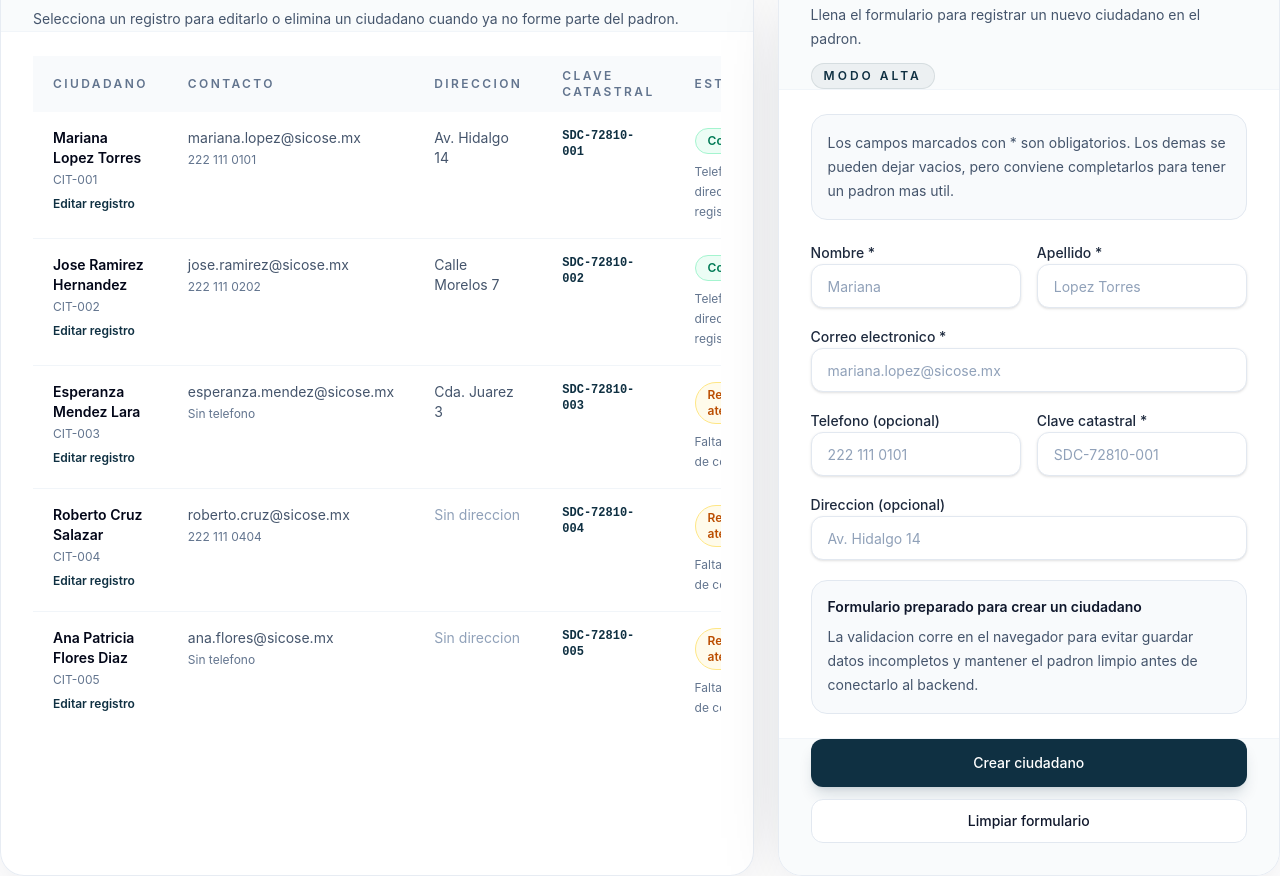
Test: CitizenManagementPanel › shows validation errors when the form is submitted empty
(page scrolled)
Click the button "Crear ciudadano": (1029, 763) [811,739,1247,787]
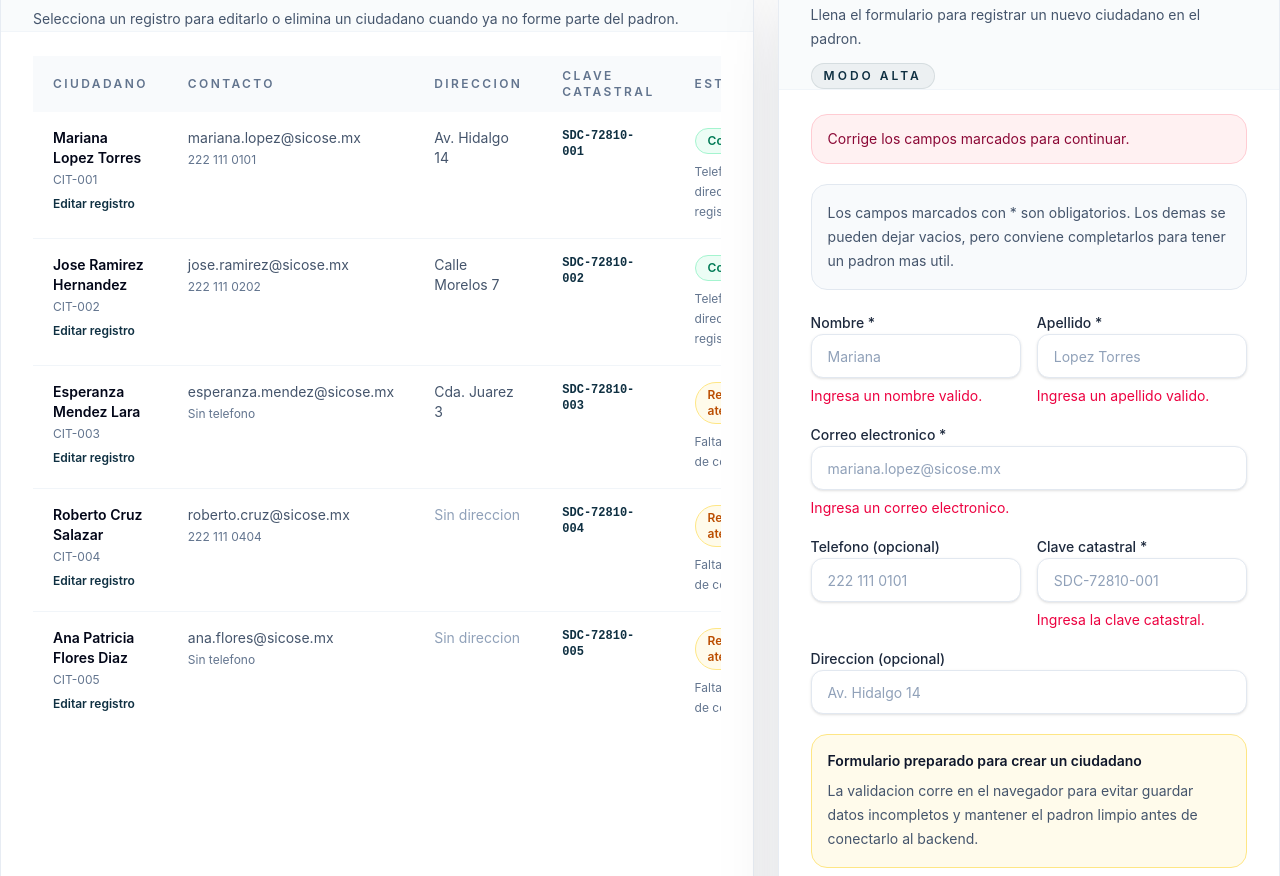
Expected: the text "Corrige los campos marcados para continuar." is shown, [811,114,1247,164]
Expected: the text "Ingresa un nombre valido." is shown, [811,387,982,404]
Expected: the text "Ingresa un apellido valido." is shown, [1037,387,1209,404]
